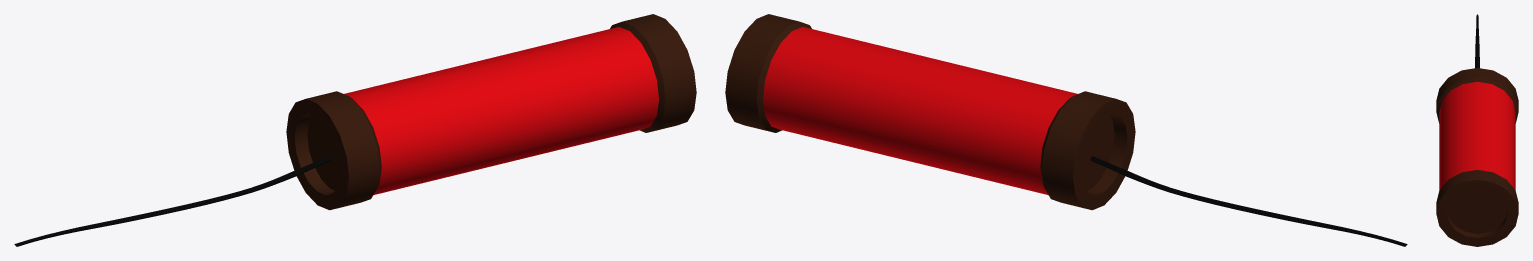
The model's file is Dinamite.fbx.
3 views of the same model, side by side, from view 1: azimuth 30°, elevation 25°; view 2: azimuth 150°, elevation 25°; view 3: azimuth 270°, elevation 25° (orthographic). The views are drawn at different scales.
Visible parts, largest first — view 1: Cylinder.003; view 2: Cylinder.003; view 3: Cylinder.003.
Part boxes in pixels (x1=…): Cylinder.003: x1=14, y1=14, x2=696, y2=246; Cylinder.003: x1=725, y1=14, x2=1407, y2=246; Cylinder.003: x1=1436, y1=14, x2=1518, y2=246.
Bounding box in the file's own units: 104 × 15.45 × 17.23.
